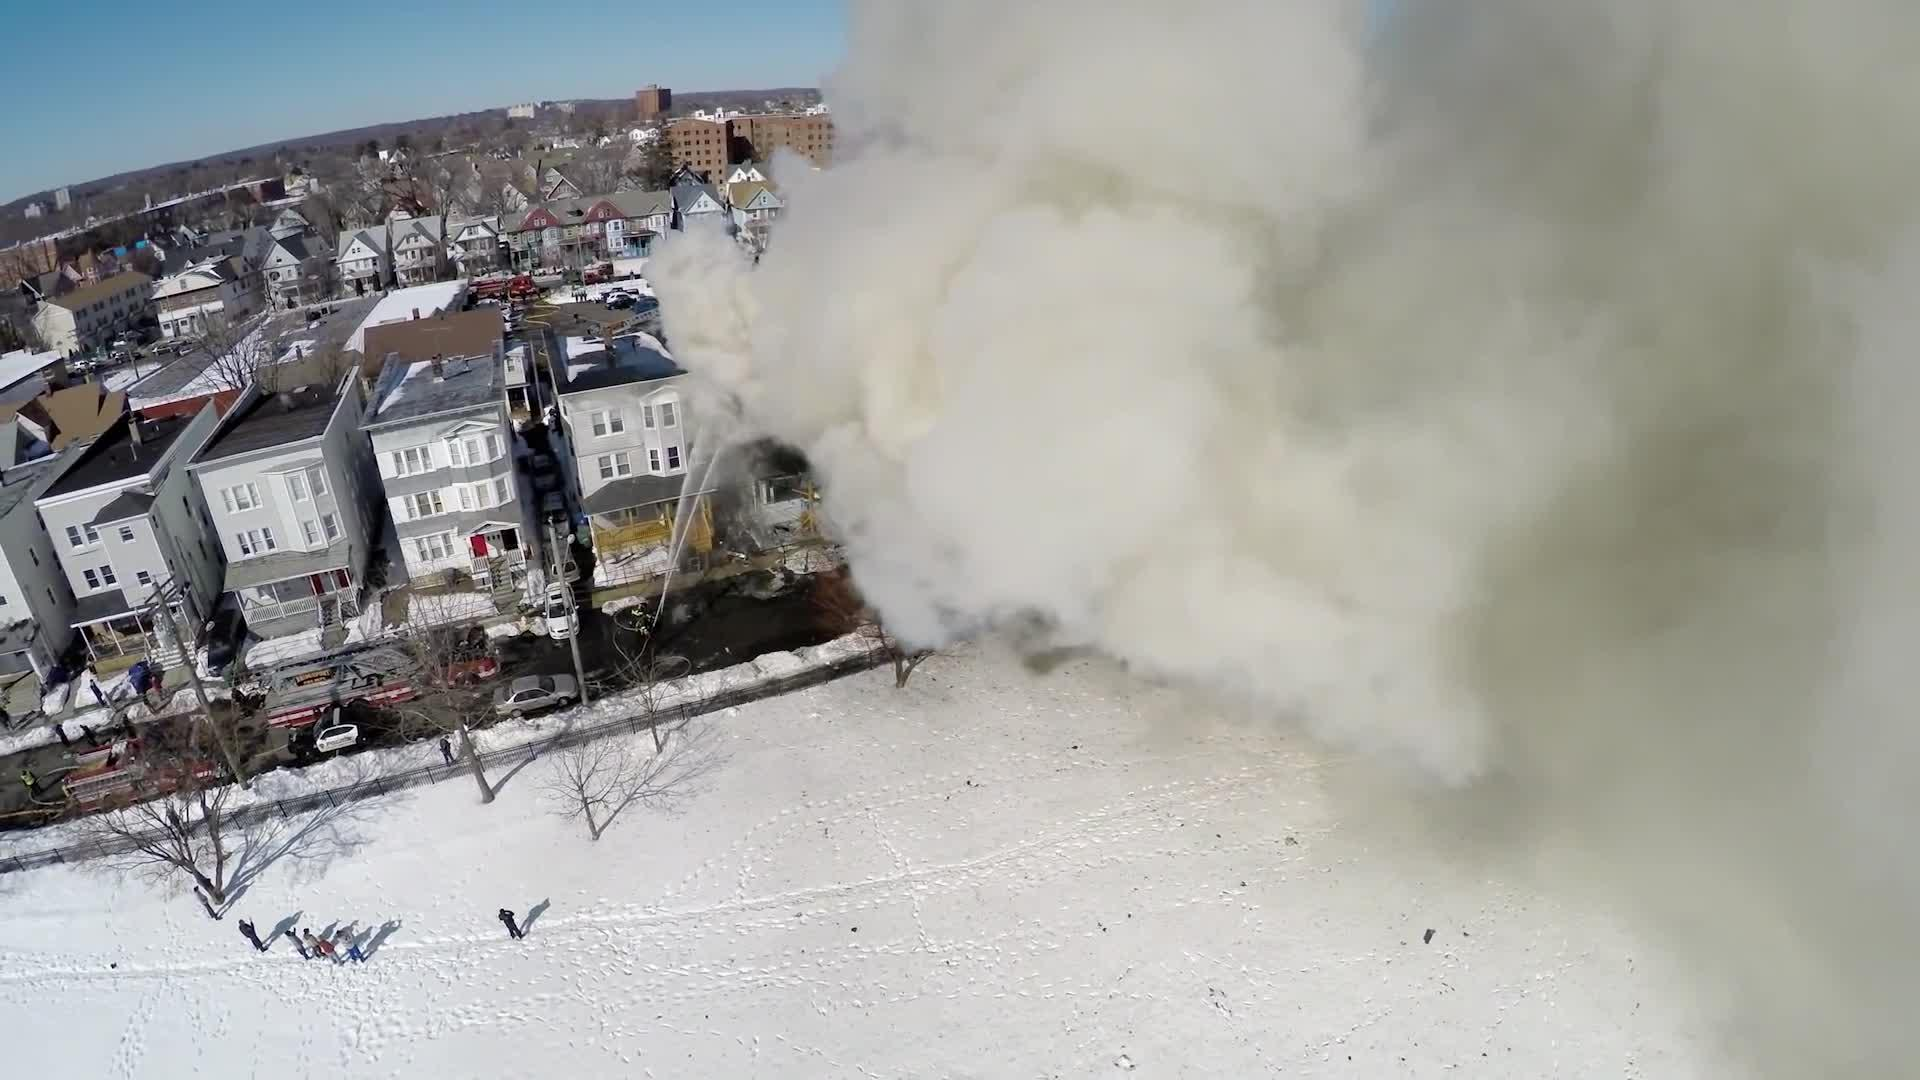smoke: (845, 45, 1920, 748)
